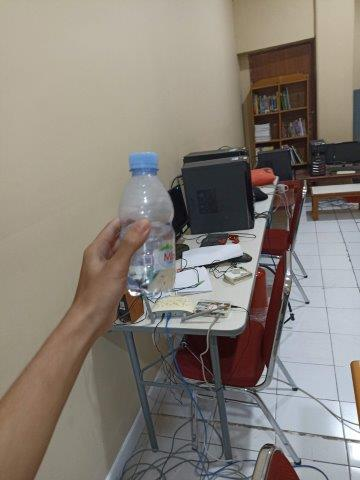botolplastik: (117, 152, 175, 294)
